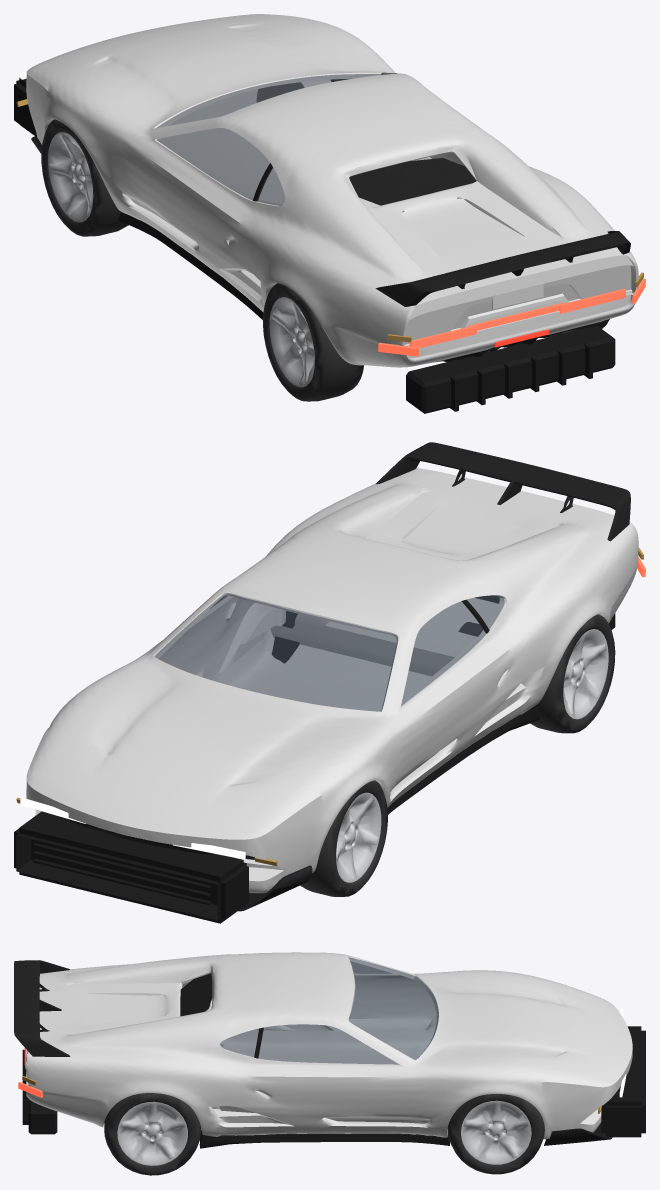
The model's file is auto_cyber_lod0.glb.
The picture shows the model from 3 angles, top to bottom: view 1: azimuth 30°, elevation 25°; view 2: azimuth 150°, elevation 25°; view 3: azimuth 270°, elevation 25°; orthographic projection. The views are drawn at different scales.
Visible parts, largest first — view 1: Karosserie, Rad_HL, Rad_VL, licht_hinten, Kennzeichen; view 2: Karosserie, Rad_HL, Rad_VL; view 3: Karosserie, Rad_HR, Rad_VR.
Boxes of the visible parts, x1=… form: Karosserie: x1=14, y1=14, x2=638, y2=413; Rad_HL: x1=263, y1=283, x2=363, y2=401; Rad_VL: x1=41, y1=119, x2=128, y2=236; licht_hinten: x1=378, y1=278, x2=645, y2=356; Kennzeichen: x1=492, y1=283, x2=543, y2=309; Karosserie: x1=14, y1=442, x2=638, y2=923; Rad_HL: x1=530, y1=614, x2=615, y2=733; Rad_VL: x1=300, y1=780, x2=387, y2=896; Karosserie: x1=14, y1=952, x2=645, y2=1148; Rad_HR: x1=104, y1=1093, x2=201, y2=1175; Rad_VR: x1=447, y1=1094, x2=544, y2=1174.
Bounding box in the file's own units: 2.01 × 1.19 × 4.8.
Materials: 10 (1 with a texture image).
